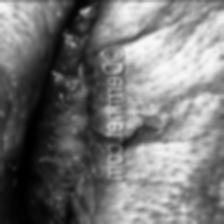Potentially Malignant Skin Tumors: (127, 99, 166, 145), (89, 104, 105, 136)
